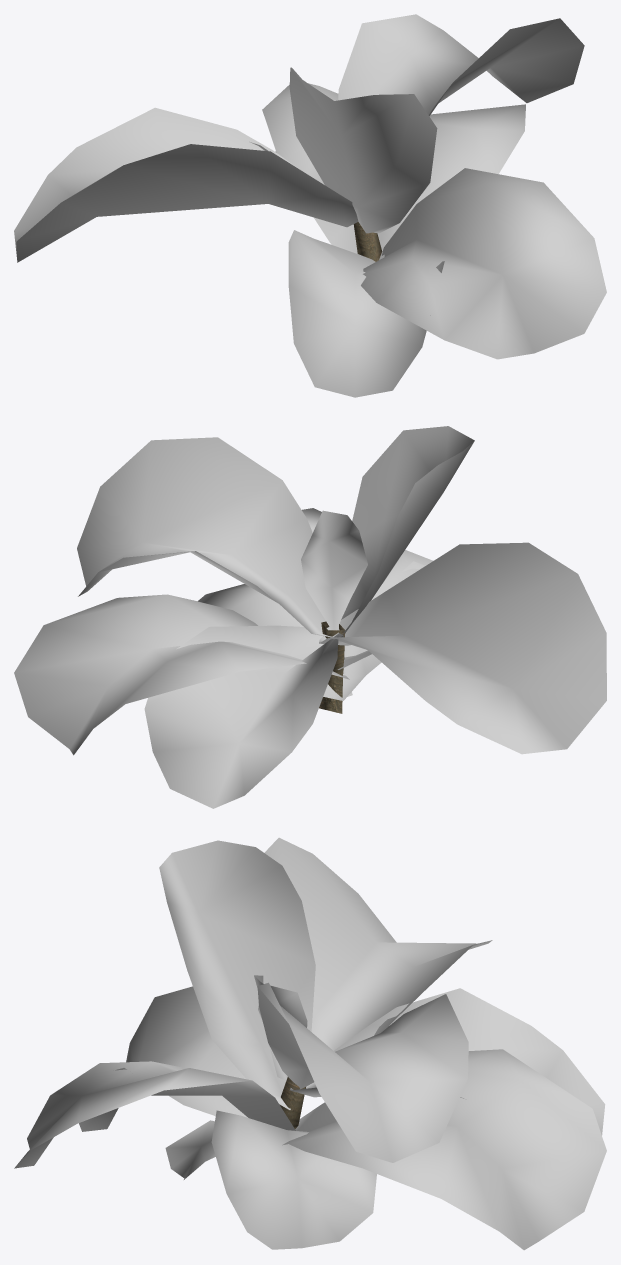
File: small_Grass.fbx
3 views of the same model, one above another, from view 1: azimuth 30°, elevation 25°; view 2: azimuth 150°, elevation 25°; view 3: azimuth 270°, elevation 25° (orthographic). The views are drawn at different scales.
Parts seen in each view (by area): view 1: SM_pal_b00_smallplant_a.mo; view 2: SM_pal_b00_smallplant_a.mo; view 3: SM_pal_b00_smallplant_a.mo.
Boxes of the visible parts, x1,y1,x2,y2 form: SM_pal_b00_smallplant_a.mo: (14,14,606,397); SM_pal_b00_smallplant_a.mo: (14,426,606,808); SM_pal_b00_smallplant_a.mo: (14,837,606,1250).
Size of the model in its own units: 58.84 by 28.17 by 52.38.
